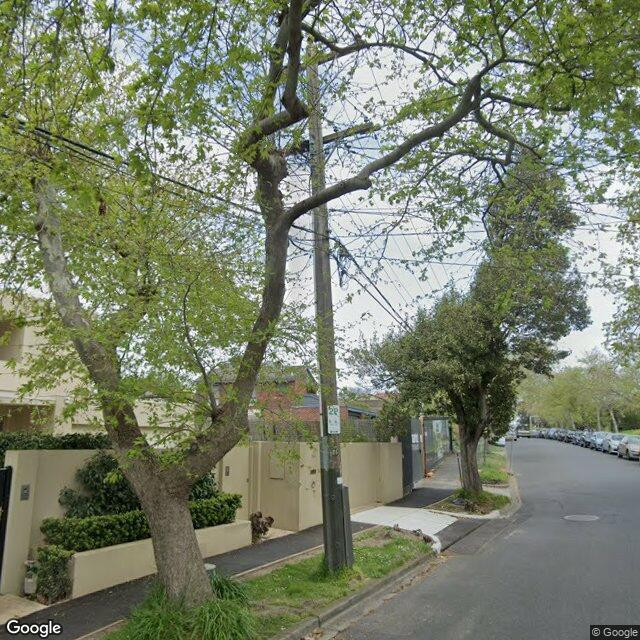crossarm: (280, 122, 374, 157), (283, 40, 367, 76)
timber-pole: (306, 44, 346, 571)
